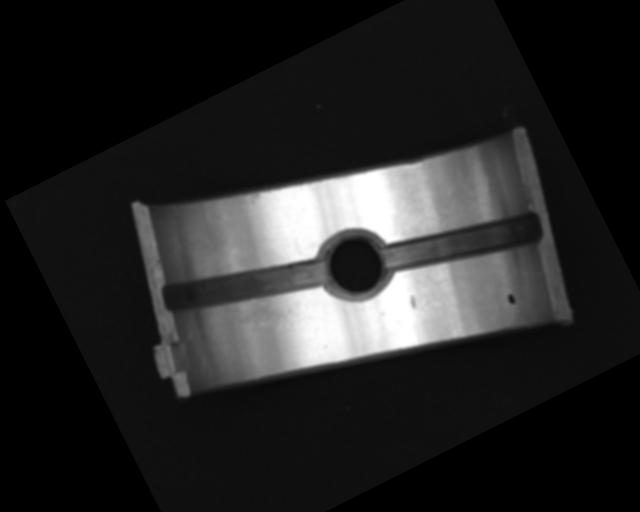blot: (504, 290, 518, 307)
bruise: (407, 294, 420, 310)
gap: (158, 219, 333, 352), (379, 180, 547, 306)
hole: (308, 220, 403, 314)
scratch: (224, 288, 306, 352)
